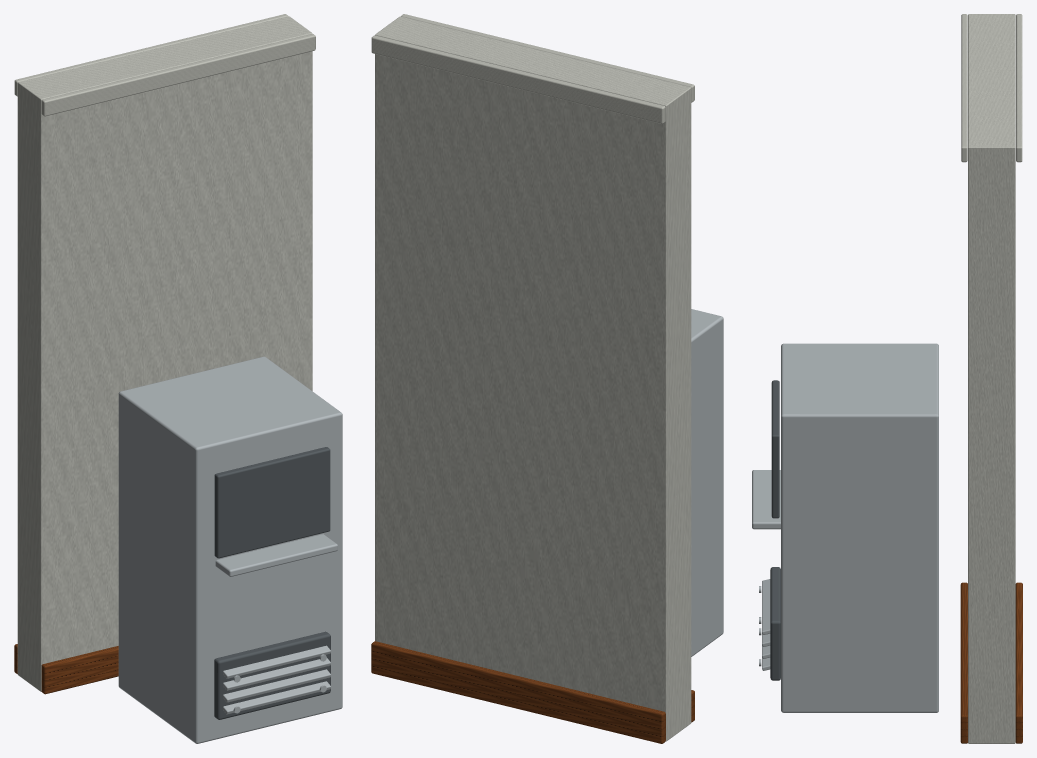
Rendered from liminal-spaces-kit-ice-machine-alcove-d2a81b4d__25328.glb.
3 views of the same model, side by side, from view 1: azimuth 30°, elevation 25°; view 2: azimuth 150°, elevation 25°; view 3: azimuth 270°, elevation 25° (orthographic). The views are drawn at different scales.
Visible parts, largest first — view 1: ice-machine-alcove; view 2: ice-machine-alcove; view 3: ice-machine-alcove.
Part boxes in pixels (x1,y1,x2,y2): ice-machine-alcove: (14,14,342,743); ice-machine-alcove: (371,14,723,743); ice-machine-alcove: (752,14,1022,743).
Size of the model in its own units: 1.2 by 2.5 by 1.03.
4 materials, 2 textured.
